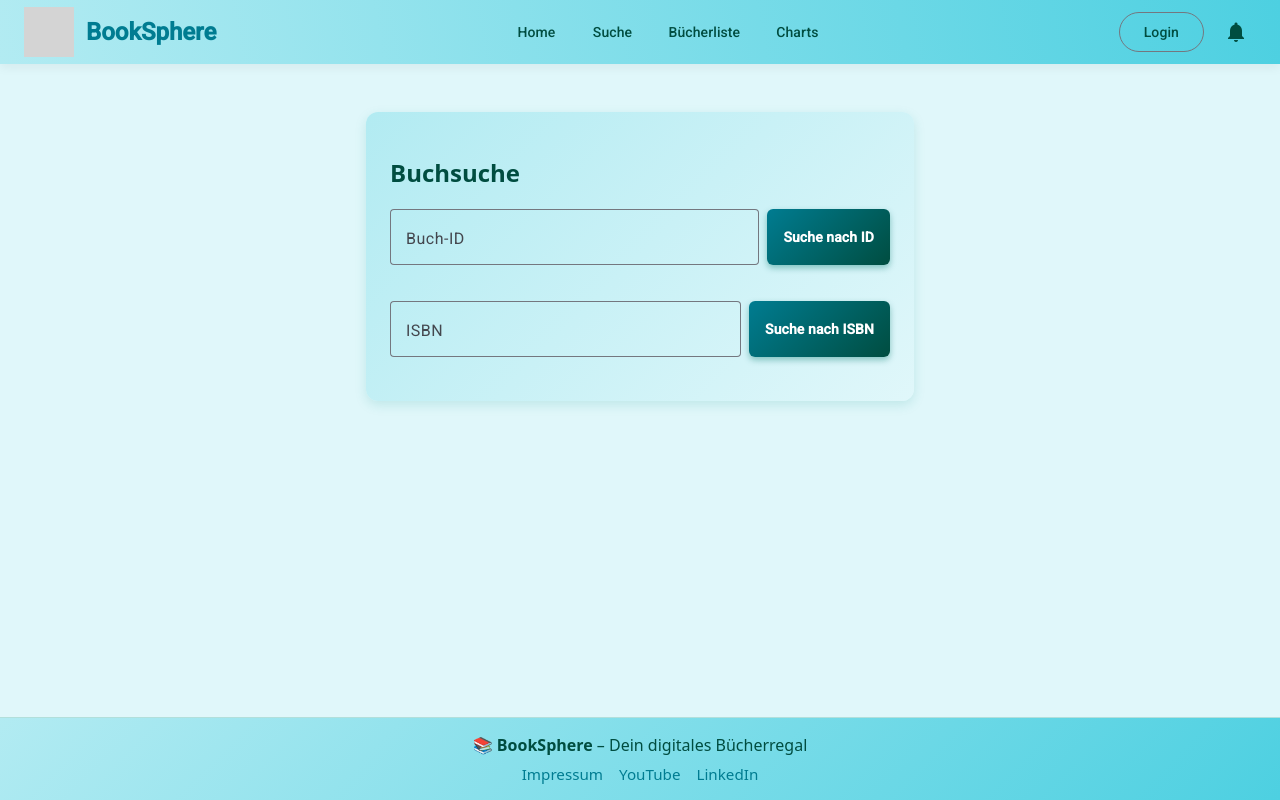
HomeComponent › should show error if there is no id
Expected: the number field with placeholder "Buch-ID eingeben" is shown, [406, 225, 743, 249]
What coordinates should you click on to do the following:
click the button "Suche nach ID"
I would click on:
 (829, 237)
Its box is [767, 209, 890, 265].
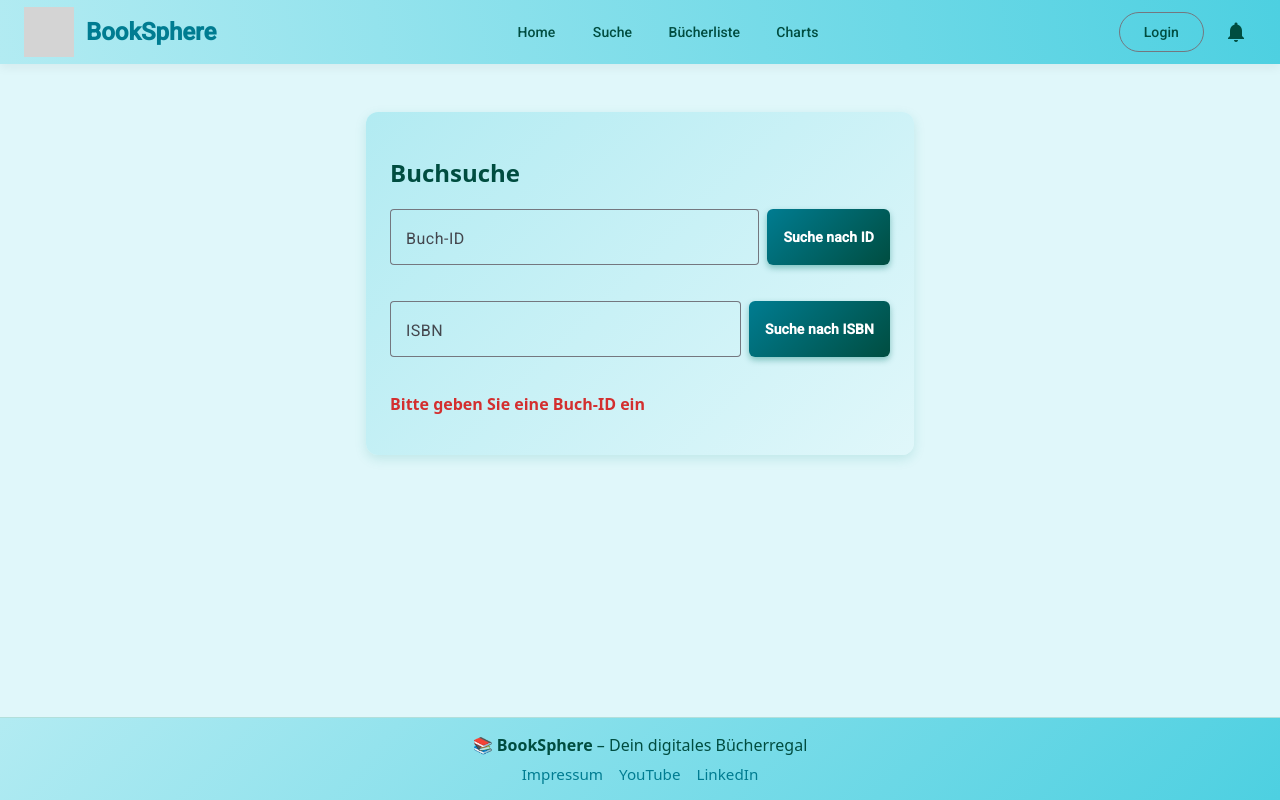
Expected: the text with class "error" reads "Bitte geben Sie eine Buch-ID ein", [390, 393, 645, 415]
